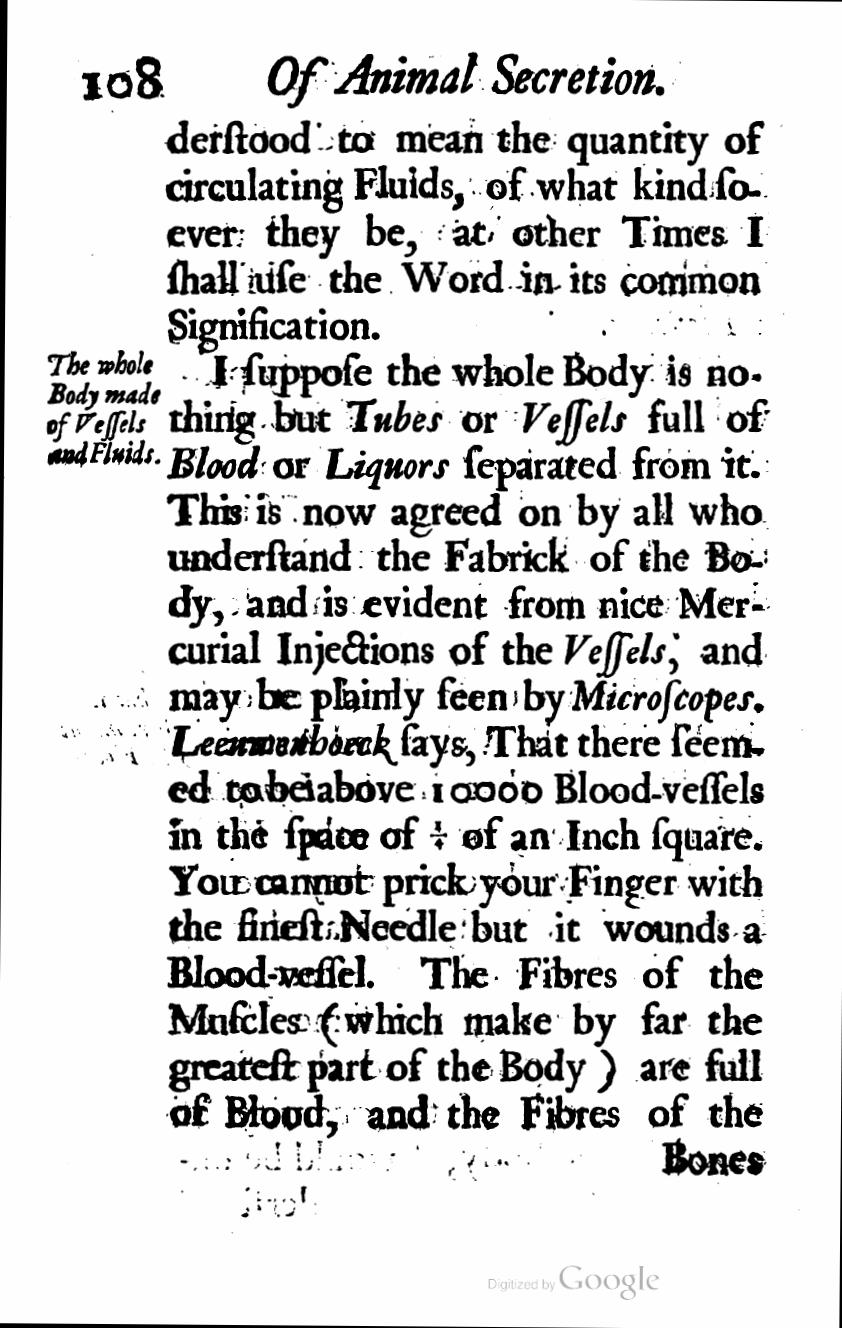bottom_p: (159, 113, 770, 355)
catchword: (660, 1139, 768, 1179)
header: (262, 47, 668, 112)
page_num: (77, 50, 170, 105)
print_marg: (42, 348, 164, 471)
top_p: (163, 354, 771, 1138)
